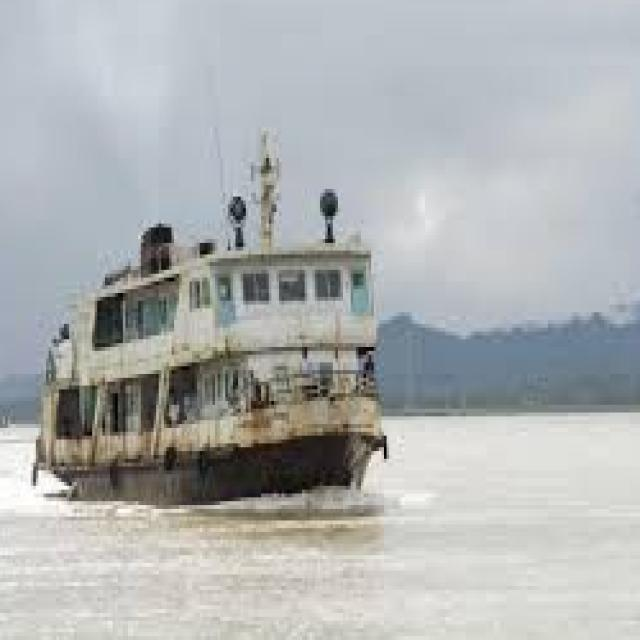passenger ship: (31, 174, 390, 502)
